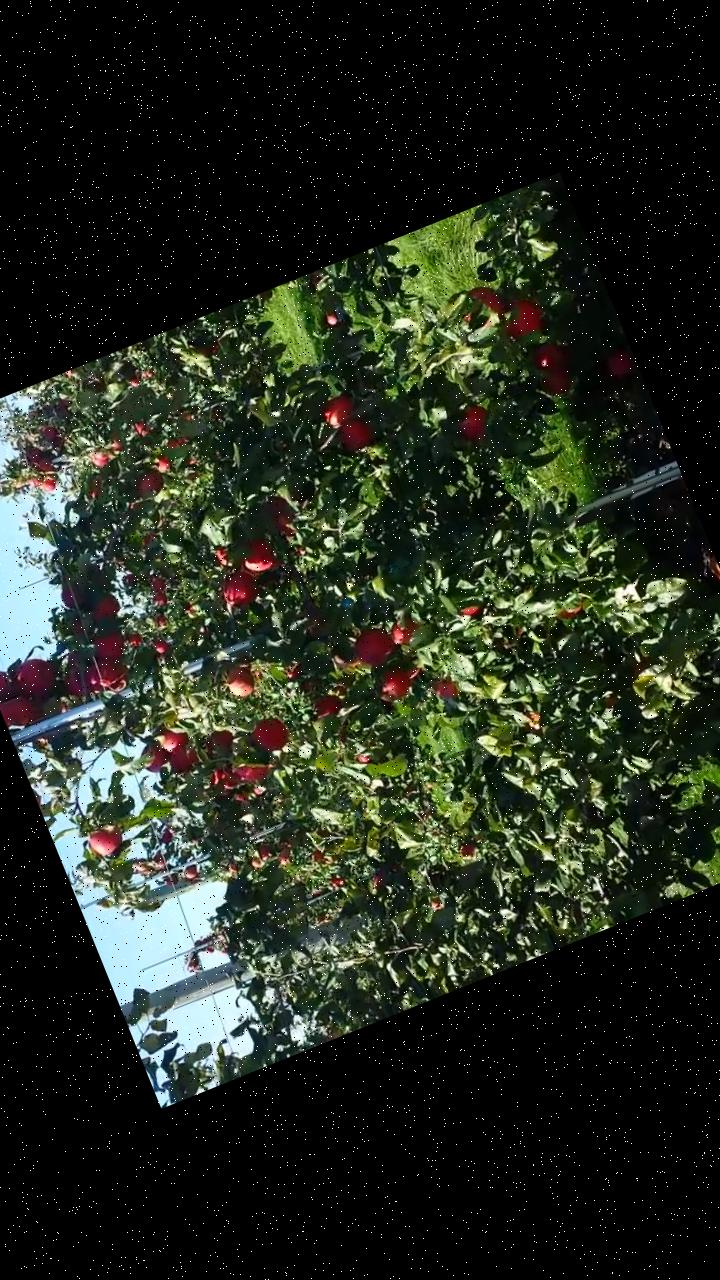Apple: (7, 650, 60, 703), (214, 562, 264, 612), (349, 624, 396, 670), (246, 710, 292, 756), (495, 296, 542, 341), (262, 489, 301, 542), (55, 650, 92, 700), (454, 401, 494, 443), (84, 821, 127, 860), (317, 391, 358, 430), (466, 278, 504, 320), (81, 656, 120, 696), (220, 661, 258, 700), (1, 692, 38, 730), (204, 759, 240, 794), (386, 612, 423, 646), (238, 540, 274, 574), (92, 629, 127, 663), (376, 668, 410, 702), (339, 418, 372, 452), (528, 340, 562, 373), (164, 742, 198, 774), (234, 756, 268, 786), (156, 722, 187, 754), (133, 467, 165, 498), (539, 367, 570, 399), (102, 662, 132, 693), (138, 747, 168, 776), (90, 592, 119, 620), (521, 707, 547, 737), (312, 692, 340, 718), (209, 724, 234, 751), (57, 582, 81, 610), (432, 678, 458, 702), (454, 598, 482, 619), (0, 666, 15, 703), (213, 544, 233, 568), (400, 662, 421, 682)
